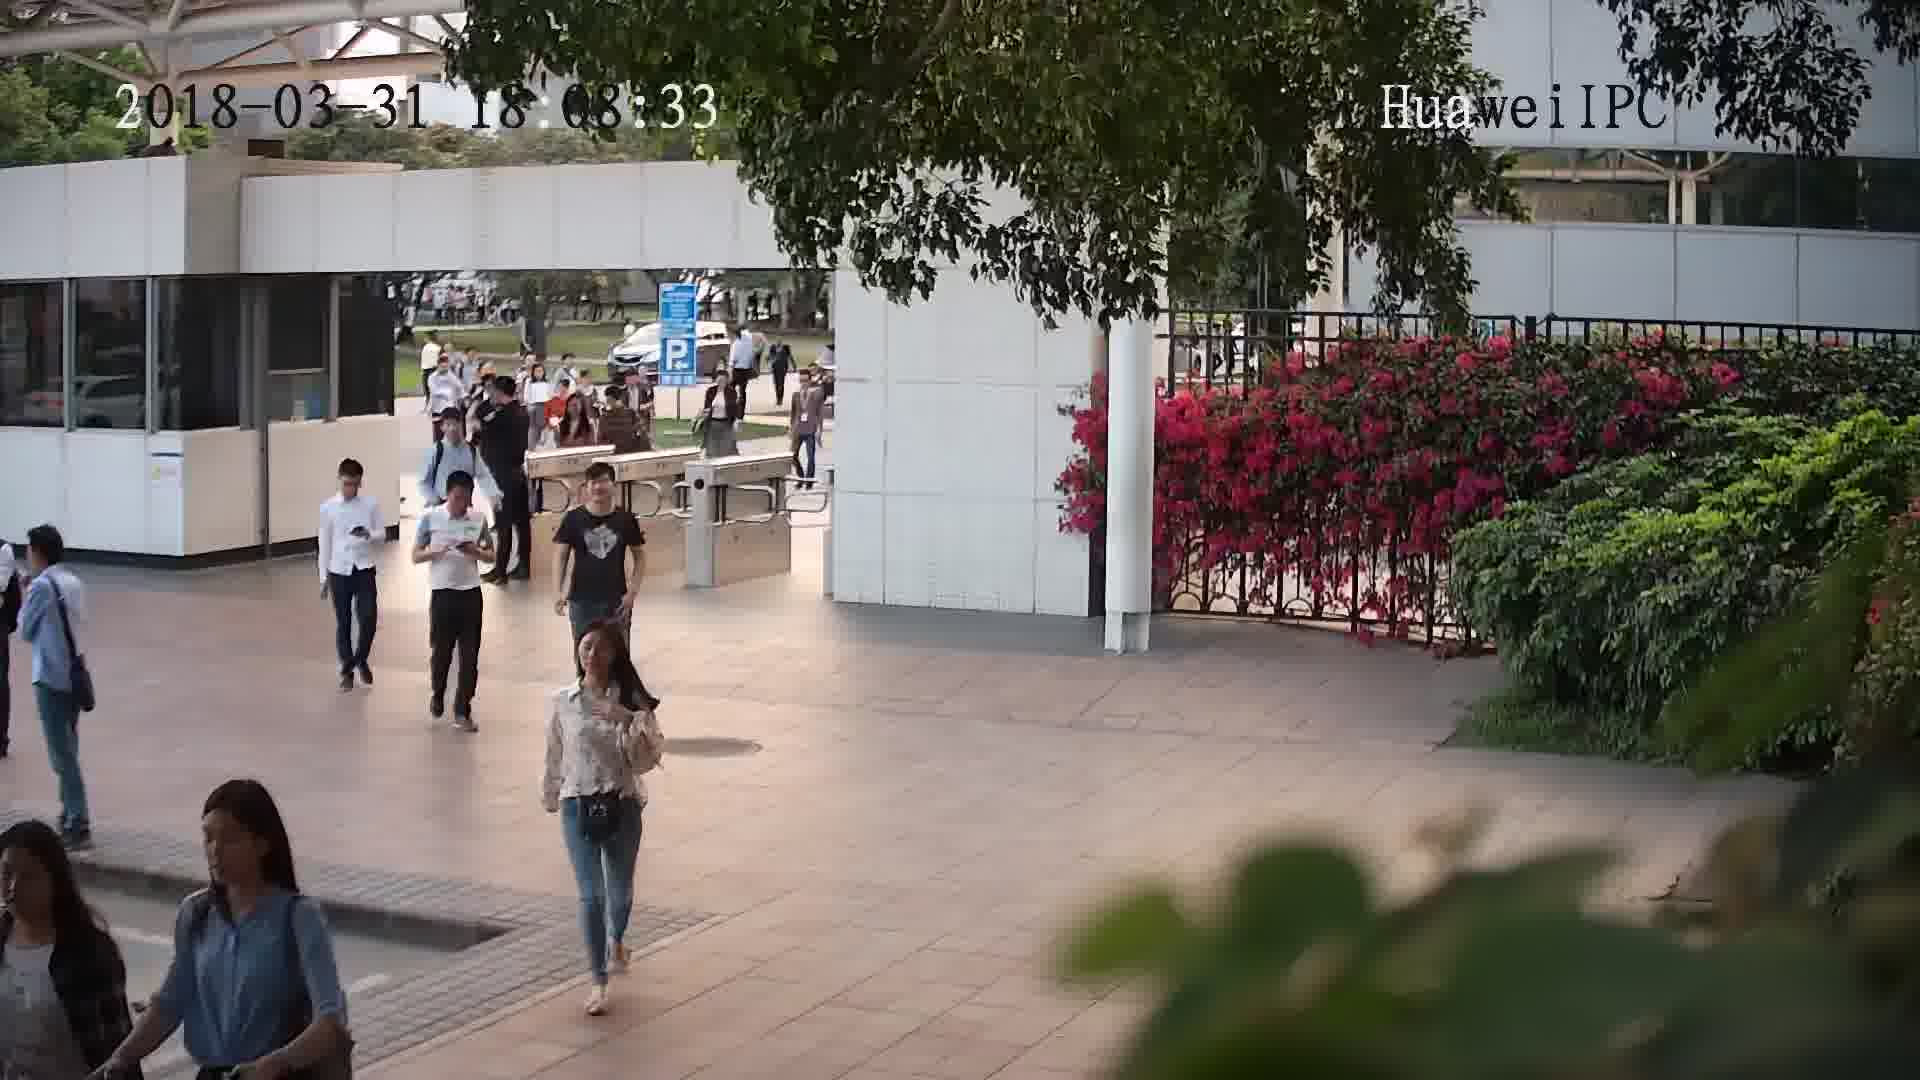face: (186, 805, 271, 889), (572, 624, 622, 674)
person: (174, 773, 322, 942), (1, 818, 123, 986), (550, 620, 649, 717), (560, 457, 641, 534), (19, 519, 88, 600), (421, 467, 488, 525), (321, 454, 379, 519), (479, 373, 530, 428), (425, 407, 476, 458), (550, 388, 596, 433), (599, 381, 645, 422), (789, 368, 823, 406), (705, 369, 743, 403), (424, 349, 460, 383), (451, 343, 484, 376), (522, 362, 554, 394), (553, 352, 581, 385)
